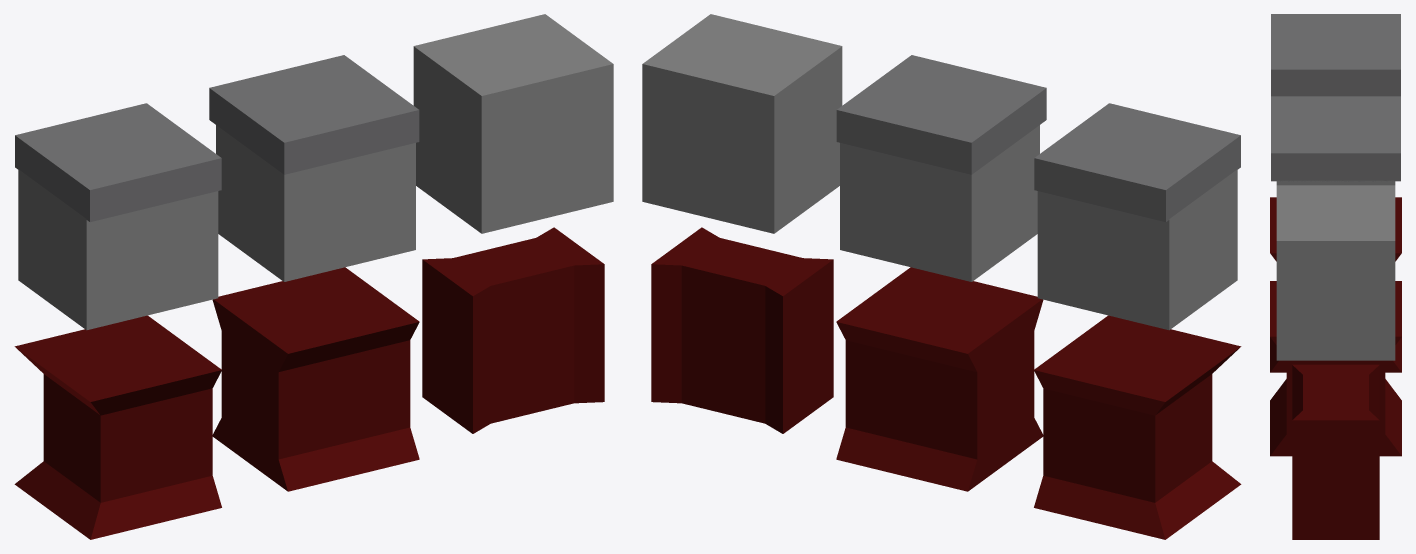
File: DownloadTilemap.fbx
The picture shows the model from 3 angles, left to right: view 1: azimuth 30°, elevation 25°; view 2: azimuth 150°, elevation 25°; view 3: azimuth 270°, elevation 25°; orthographic projection. The views are drawn at different scales.
Visible parts, largest first — view 1: FactoryMiddle, FactoryEdge, TrussMiddle, FactoryBody, TrussEdge, TrussVertical; view 2: FactoryMiddle, FactoryEdge, TrussMiddle, FactoryBody, TrussEdge, TrussVertical; view 3: FactoryBody, TrussVertical, FactoryEdge, FactoryMiddle, TrussMiddle, TrussEdge.
Part boxes in pixels (left/top/right/bottom): FactoryMiddle: left=15, top=103, right=221, bottom=330; FactoryEdge: left=209, top=55, right=419, bottom=281; TrussMiddle: left=212, top=267, right=419, bottom=491; FactoryBody: left=413, top=14, right=613, bottom=233; TrussEdge: left=14, top=315, right=221, bottom=539; TrussVertical: left=422, top=227, right=604, bottom=433; FactoryMiddle: left=1034, top=103, right=1240, bottom=330; FactoryEdge: left=836, top=55, right=1046, bottom=281; TrussMiddle: left=836, top=267, right=1043, bottom=491; FactoryBody: left=642, top=14, right=842, bottom=233; TrussEdge: left=1034, top=315, right=1241, bottom=539; TrussVertical: left=651, top=227, right=833, bottom=433; FactoryBody: left=1276, top=185, right=1395, bottom=360; TrussVertical: left=1292, top=364, right=1379, bottom=539; FactoryEdge: left=1271, top=96, right=1400, bottom=185; FactoryMiddle: left=1271, top=14, right=1400, bottom=96; TrussMiddle: left=1270, top=281, right=1401, bottom=456; TrussEdge: left=1270, top=197, right=1401, bottom=372.
Size of the model in its own units: 800 by 507 by 200.
